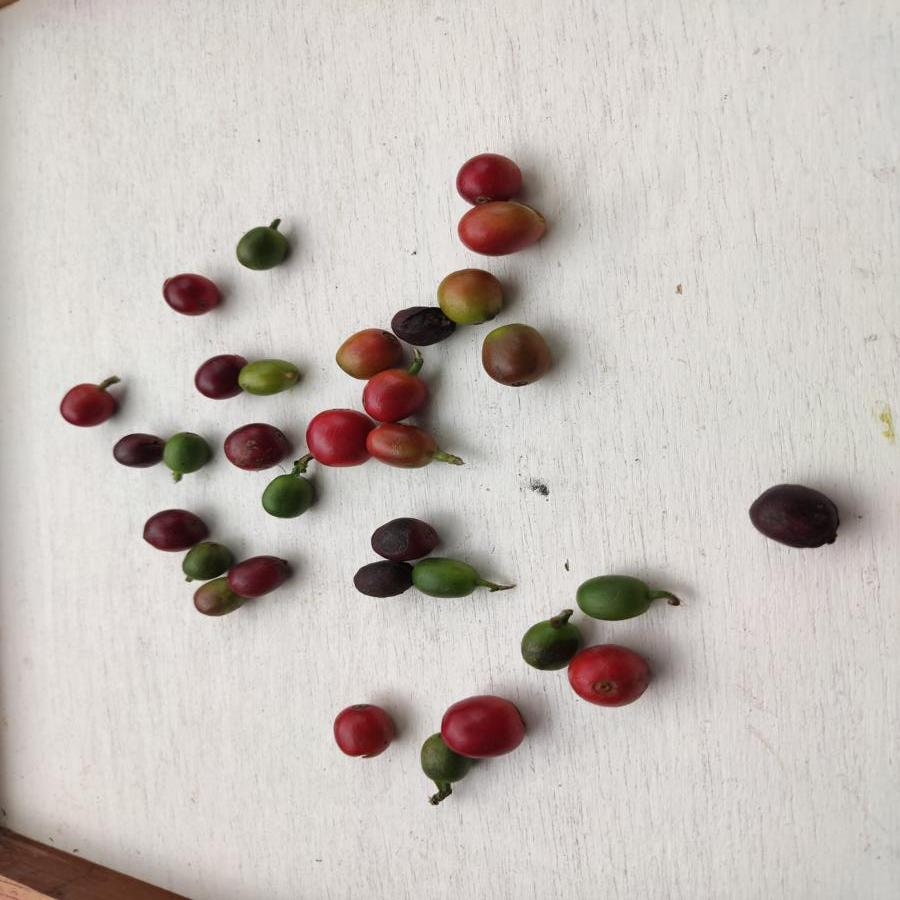Inmaduro: (573, 569, 652, 623), (413, 558, 481, 605), (519, 615, 577, 670), (232, 222, 293, 271), (259, 471, 317, 521), (164, 428, 214, 479), (419, 739, 467, 783), (183, 543, 229, 578)
Maduro: (570, 639, 654, 709), (441, 692, 533, 755), (452, 202, 547, 256), (329, 700, 398, 759), (452, 153, 528, 203), (365, 422, 443, 470), (303, 406, 366, 465), (326, 327, 402, 375), (54, 378, 124, 430), (363, 368, 429, 418)
Pinton: (474, 318, 557, 391), (442, 267, 504, 326), (238, 356, 301, 394), (193, 580, 238, 617)
Sobremaduro: (744, 483, 844, 548), (221, 420, 294, 471), (160, 267, 231, 317), (367, 515, 448, 556), (138, 503, 212, 547), (230, 555, 294, 598), (393, 302, 453, 343), (189, 352, 237, 403), (350, 558, 410, 598), (110, 431, 166, 471)
